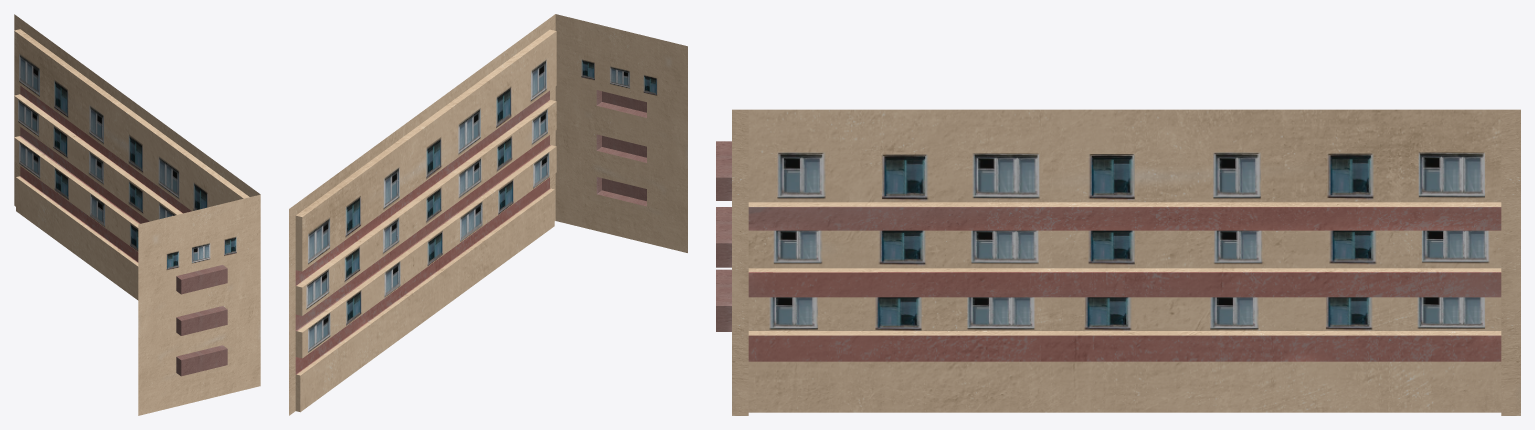
File: house.fbx
3 views of the same model, side by side, from view 1: azimuth 30°, elevation 25°; view 2: azimuth 150°, elevation 25°; view 3: azimuth 270°, elevation 25° (orthographic). The views are drawn at different scales.
Parts seen in each view (by area): view 1: Cube; view 2: Cube; view 3: Cube.
Boxes of the visible parts, <box> form: Cube: <box>14,14,260,415</box>; Cube: <box>289,14,687,415</box>; Cube: <box>716,109,1520,415</box>.
Bounding box in the file's own units: 200 × 299 × 711.
